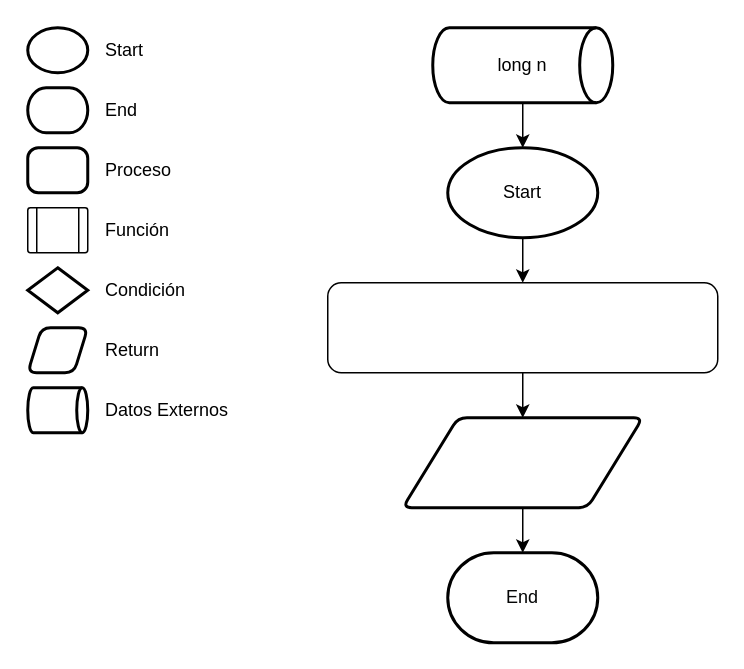
The diagram is 744 pixels wide and 669 high, and some of its shapes have lost their labels. The shapes that lost their labels are listed below. From the top down, each one's centre as x and y in pixels, then its label:
At pixel 522 327: "n = n - 2 String[] array20_90 = {twenty, thirty, ..., ninety}".
At pixel 522 462: "return array20_90[n]".
